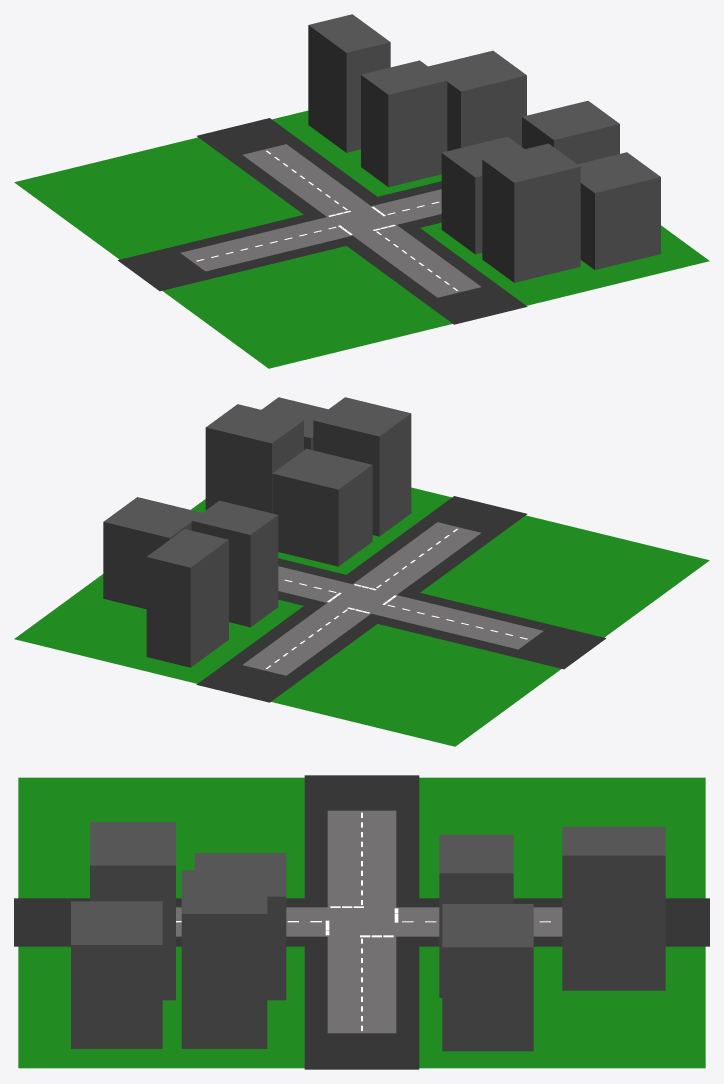
The model's file is small_street.gltf.
The picture shows the model from 3 angles, top to bottom: view 1: azimuth 30°, elevation 25°; view 2: azimuth 150°, elevation 25°; view 3: azimuth 270°, elevation 25°; orthographic projection. The views are drawn at different scales.
Parts seen in each view (by area): view 1: Building small (×7), Ground (×4), Plane (×10); view 2: Ground (×4), Building small (×7), Plane (×10); view 3: Ground (×4), Building small (×7), Plane (×10).
Part boxes in pixels (x1,y1,x2,y2): Building small (×7): [308, 14, 660, 282]; Ground (×4): [14, 110, 709, 368]; Plane (×10): [118, 118, 527, 324]; Ground (×4): [14, 487, 709, 746]; Building small (×7): [103, 397, 411, 667]; Plane (×10): [196, 496, 605, 702]; Ground (×4): [18, 777, 705, 1068]; Building small (×7): [71, 822, 665, 1051]; Plane (×10): [14, 775, 709, 1069].
Bounding box in the file's own units: 60.76 × 13 × 60.76.
